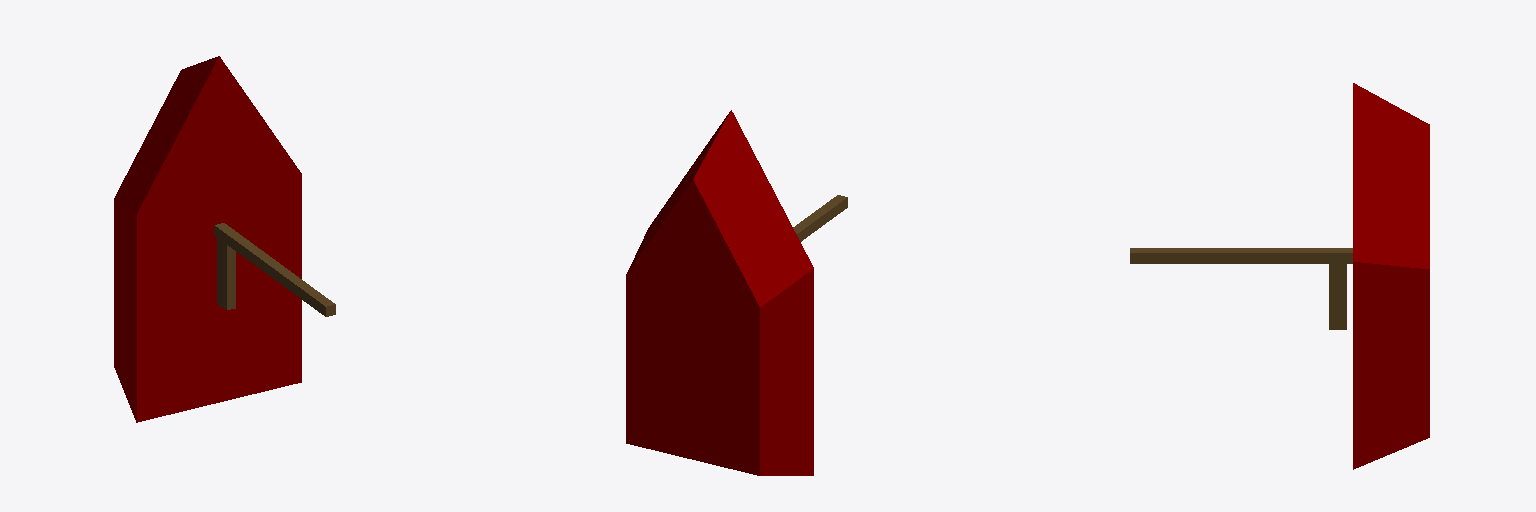
File: toyship.obj
3 views of the same model, side by side, from view 1: azimuth 30°, elevation 25°; view 2: azimuth 150°, elevation 25°; view 3: azimuth 270°, elevation 25° (orthographic).
Visible parts, largest first — view 1: Cube, Cube.001; view 2: Cube, Cube.001; view 3: Cube, Cube.001.
Part boxes in pixels (x1,y1,x2,y2): Cube: (114, 56, 301, 422); Cube.001: (214, 223, 335, 316); Cube: (626, 110, 813, 475); Cube.001: (793, 195, 847, 241); Cube: (1353, 83, 1429, 469); Cube.001: (1130, 248, 1352, 329).
Size of the model in its own units: 0.1 by 0.2 by 0.1566.